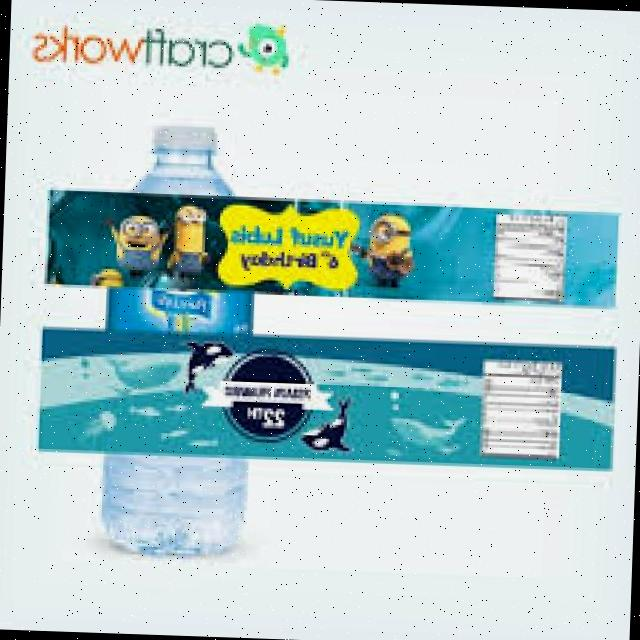bottle: (80, 116, 260, 566)
